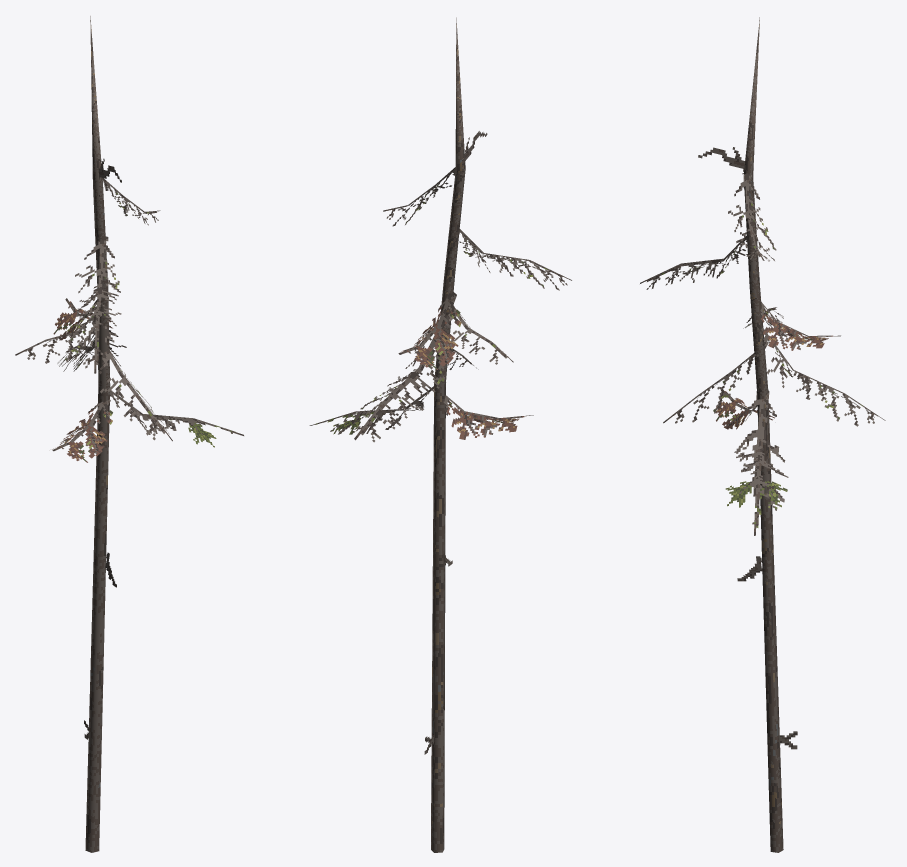
File: Spruce6.glb
The picture shows the model from 3 angles, left to right: view 1: azimuth 30°, elevation 25°; view 2: azimuth 150°, elevation 25°; view 3: azimuth 270°, elevation 25°; orthographic projection.
Visible parts, largest first — view 1: Spruce6; view 2: Spruce6; view 3: Spruce6.
Boxes of the visible parts, x1,y1,x2,y2 form: Spruce6: (15,16,243,852); Spruce6: (309,17,571,852); Spruce6: (640,17,885,852).
Bounding box in the file's own units: 4.96 × 16.13 × 4.72.
2 materials, 2 textured.
